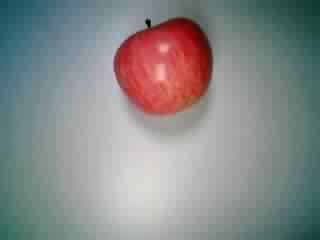apple: (113, 13, 219, 117)
